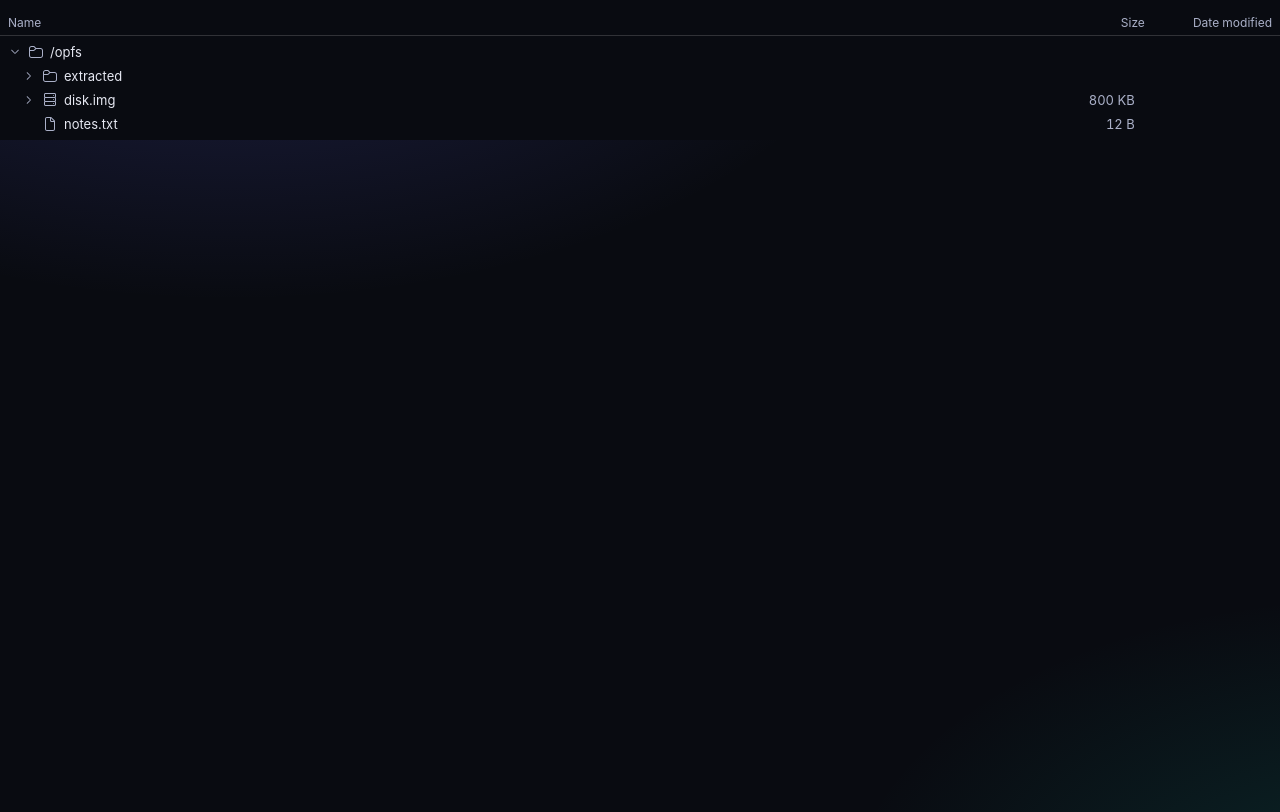
Test: FilesystemView — disk-image descent › collapses a lone synthetic partition (floppy shows volume contents directly)
Click the list item with class "tree-row" showing "disk.img 800 KB" at (90, 100), box [0,88,1279,112]
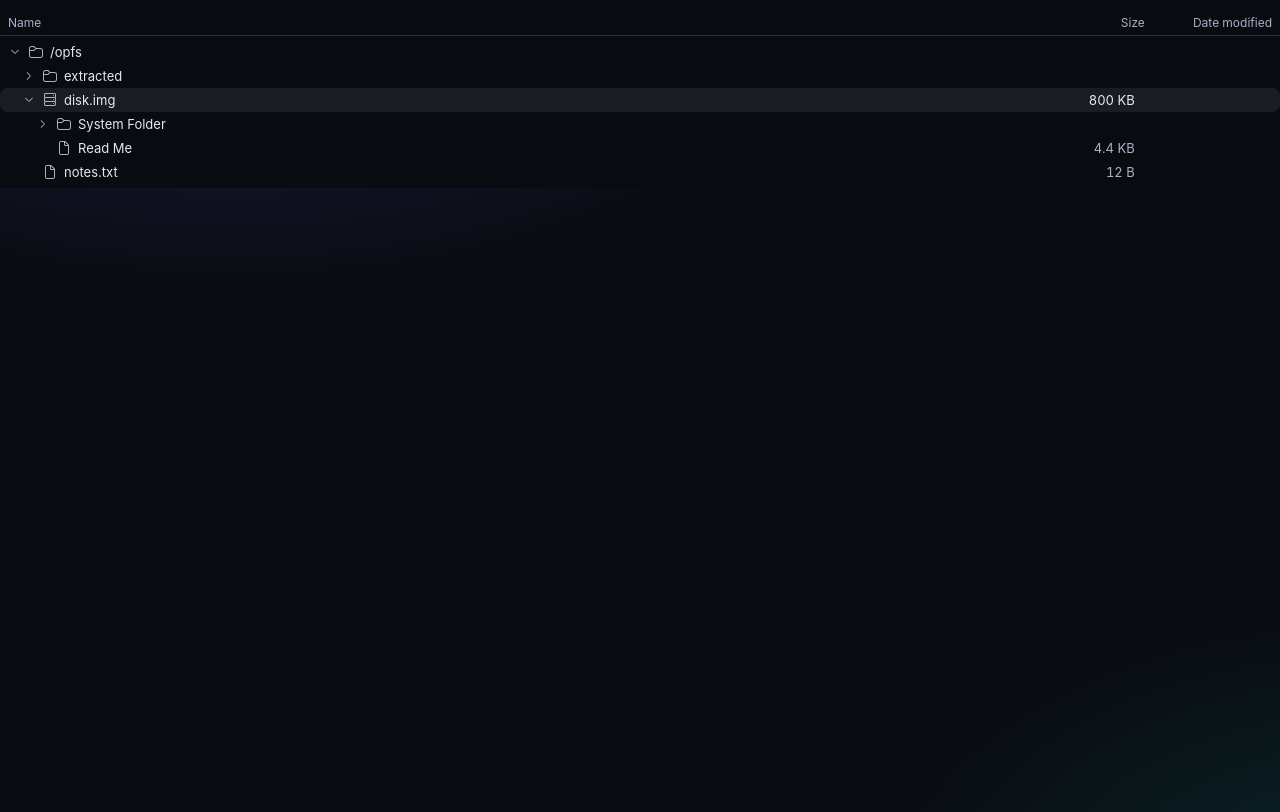
Check: the text "System Folder" is shown, box [78,116,166,132]
Check: the text "Read Me" is shown, box [78,140,132,156]
